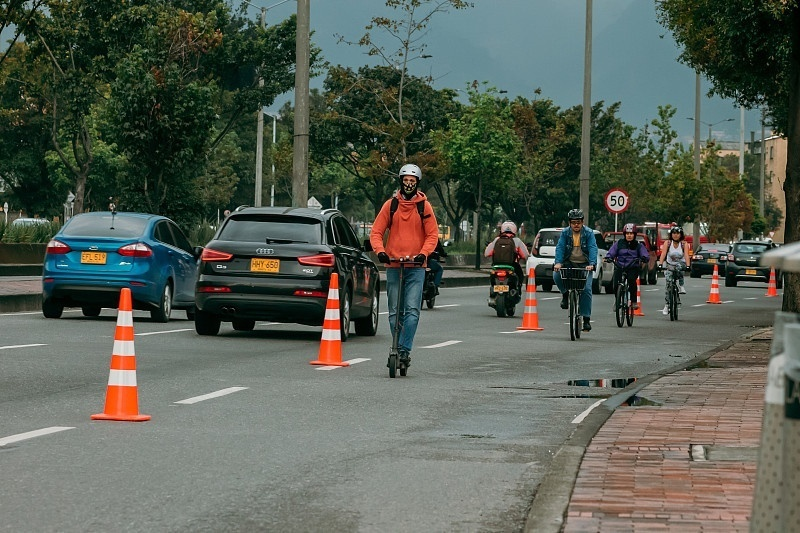non-vehicle: (380, 254, 433, 375), (555, 261, 594, 338), (605, 258, 645, 323), (487, 259, 521, 315), (662, 260, 686, 318)
